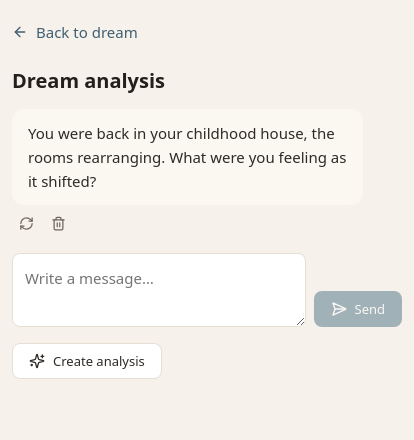
Scenario: Dreams analysis UI › runs a guided turn and shows the streamed reply
Check: the text "childhood house" is shown, box x1=28 y1=123 x2=350 y2=191
Type "It felt freeing." into the text box labelled "message" at point(159, 290), box x1=12 y1=253 x2=306 y2=327
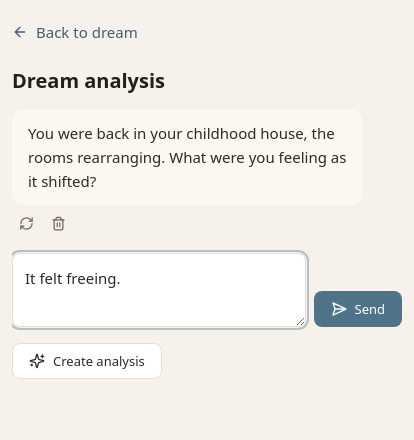
Click the button "Send" at point(358, 309), box x1=314 y1=291 x2=402 y2=327
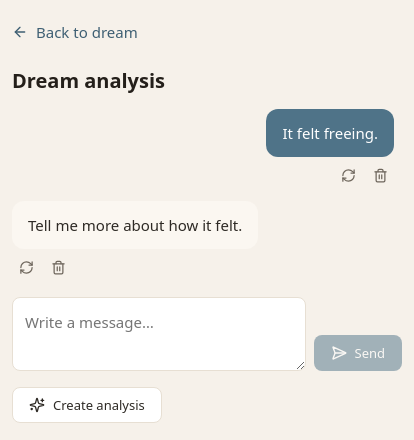
Check: the text "It felt freeing." is shown, box x1=266 y1=109 x2=394 y2=157
Check: the text "Tell me more about how it felt." is shown, box x1=28 y1=213 x2=242 y2=237
